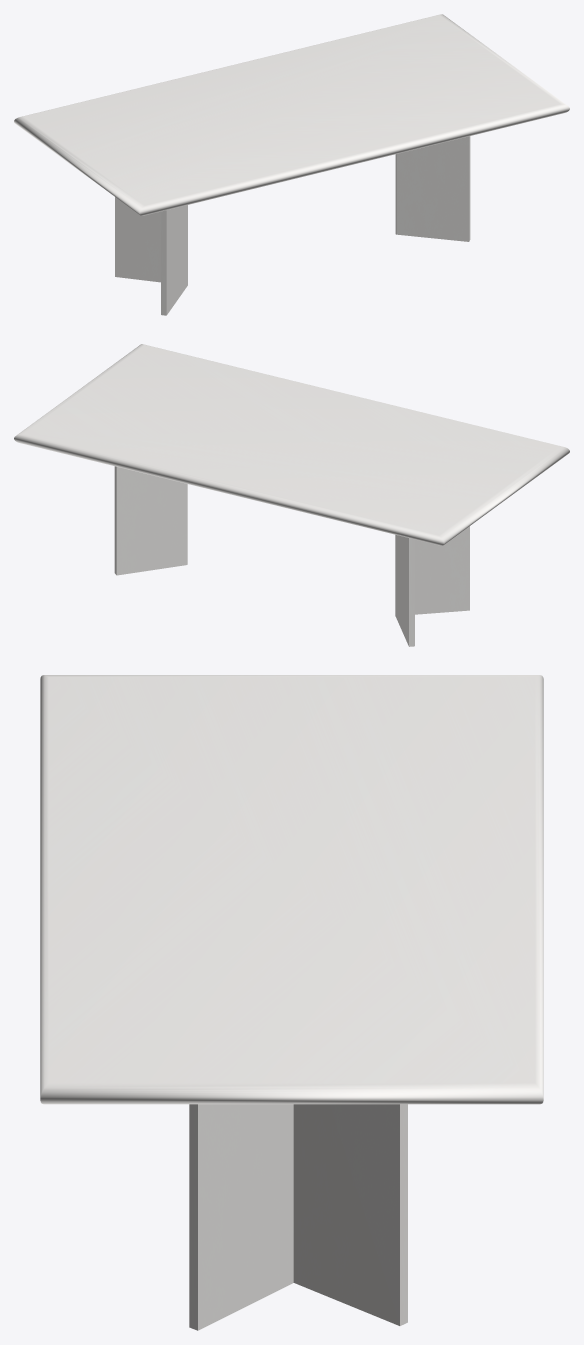
The model's file is purewhite_recta_round_valleyv.glb.
The picture shows the model from 3 angles, top to bottom: view 1: azimuth 30°, elevation 25°; view 2: azimuth 150°, elevation 25°; view 3: azimuth 270°, elevation 25°; orthographic projection. The views are drawn at different scales.
Parts seen in each view (by area): view 1: round_recta, valleyv; view 2: round_recta, valleyv; view 3: round_recta, valleyv.
Part boxes in pixels (left/top/right/bottom): round_recta: left=14, top=14, right=569, bottom=215; valleyv: left=115, top=136, right=470, bottom=315; round_recta: left=14, top=344, right=569, bottom=545; valleyv: left=114, top=466, right=469, bottom=646; round_recta: left=40, top=675, right=543, bottom=1104; valleyv: left=189, top=1104, right=407, bottom=1330.
Bounding box in the file's own units: 7.5 × 2.5 × 3.8.
1 material, 1 textured.
